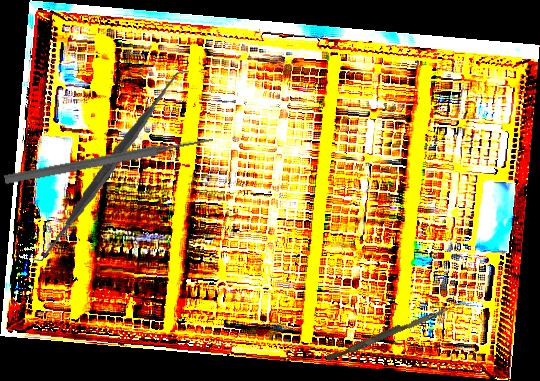Pusher: (3, 132, 215, 188), (325, 302, 450, 365)
Spatula Surgical: (20, 69, 202, 262)
